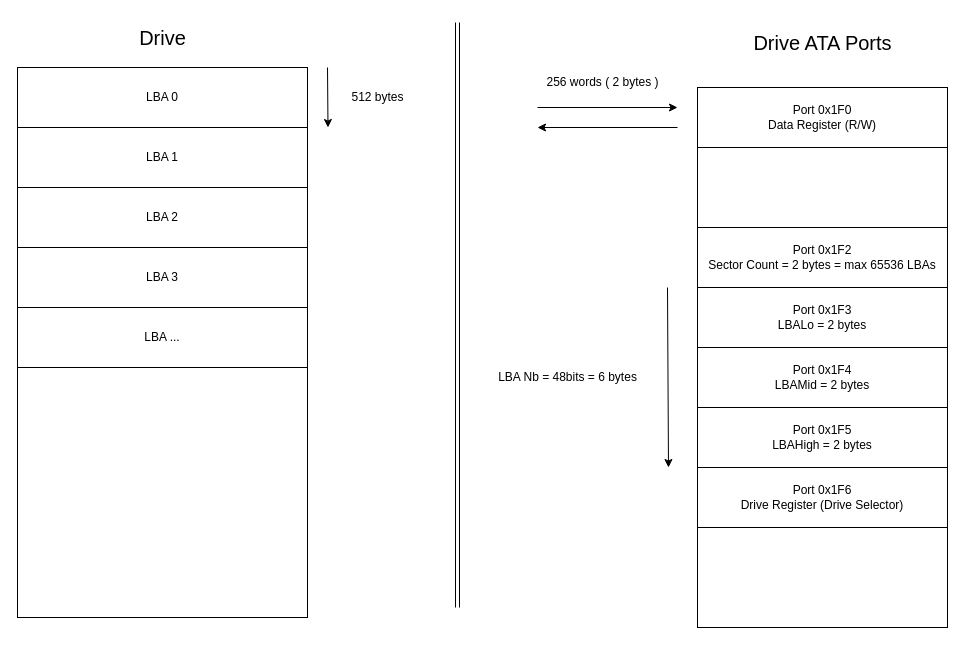
The diagram is 965 pixels wide and 645 high, and some of its shapes have lost their labels. Each missing label, with the centre of its shape:
"Port 0x1F1 Error Register (R)" goes at pixel 822 187.
"Port 0x1F7 Command Register (W) Status Register (R)" goes at pixel 822 577.
